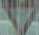Give way: (2, 2, 37, 34)
